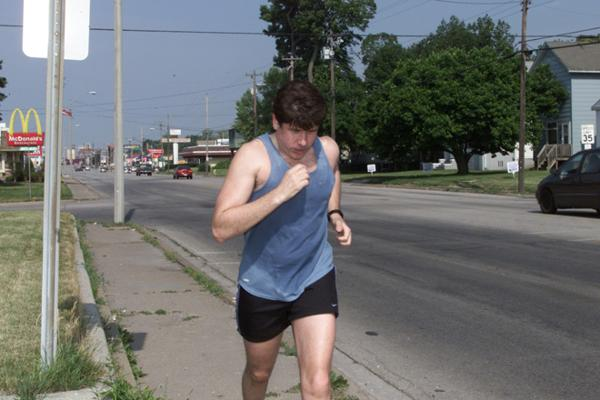person: (207, 81, 353, 397)
